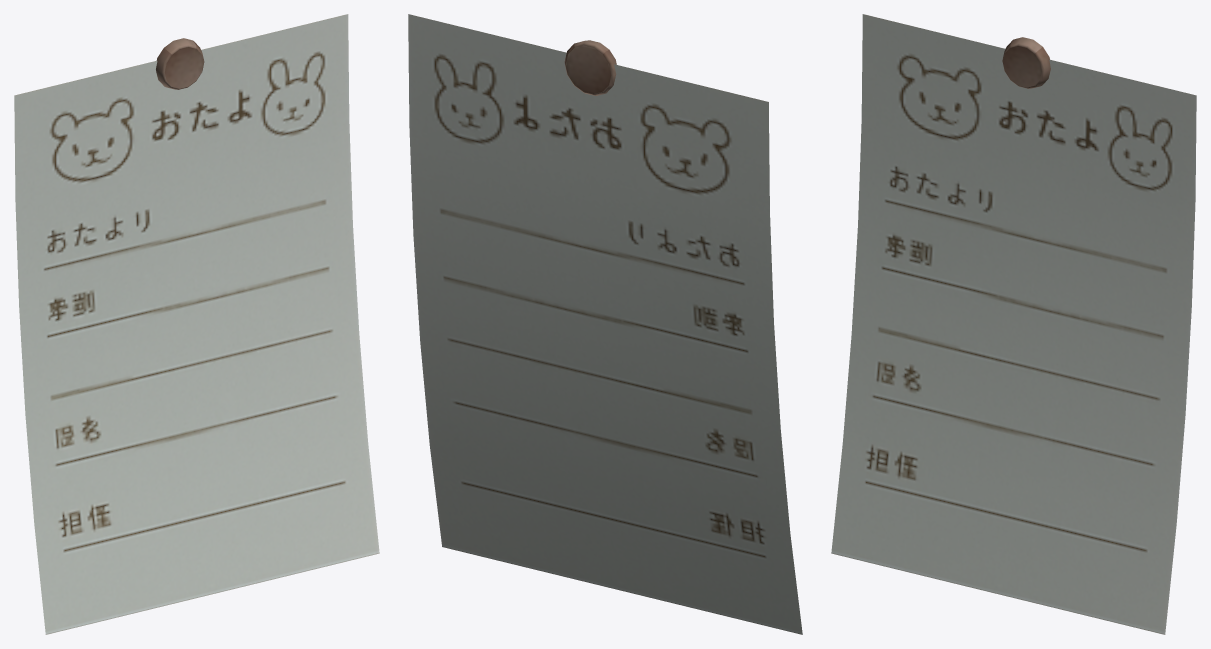
The model's file is SM_notice_005.fbx.
The picture shows the model from 3 angles, left to right: view 1: azimuth 30°, elevation 25°; view 2: azimuth 150°, elevation 25°; view 3: azimuth 330°, elevation 25°; orthographic projection. The views are drawn at different scales.
Visible parts, largest first — view 1: notices01; view 2: notices01; view 3: notices01.
Part boxes in pixels (x1=…): notices01: x1=14, y1=14, x2=379, y2=634; notices01: x1=408, y1=14, x2=802, y2=634; notices01: x1=831, y1=14, x2=1196, y2=634.
Size of the model in its own units: 9.43 by 14.35 by 1.63.
Materials: 1 (1 with a texture image).
